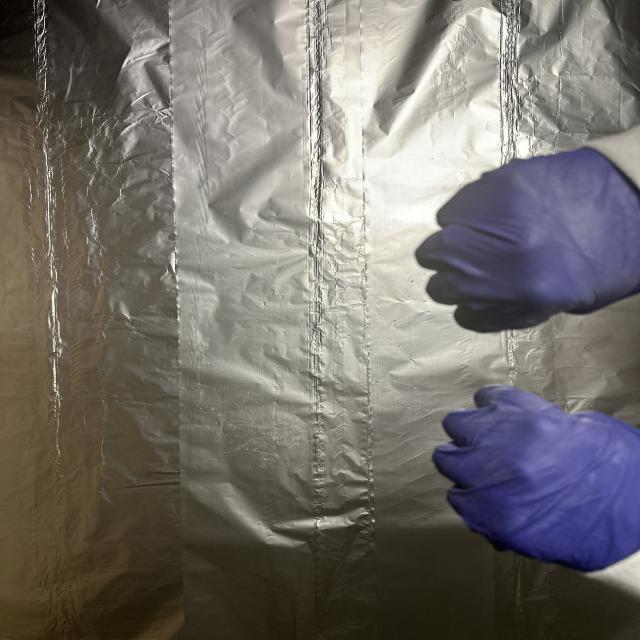gloves_contaminated: (416, 127, 640, 333), (433, 385, 640, 572)
